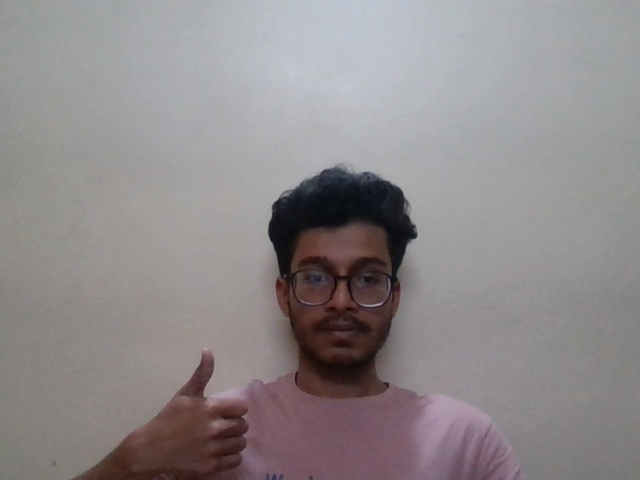yes: (114, 343, 263, 469)
